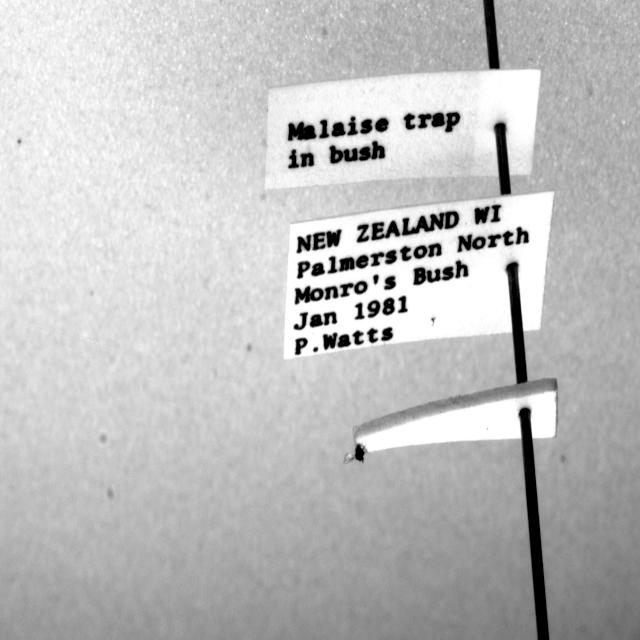typed_label: (284, 191, 554, 358), (265, 69, 540, 189)
